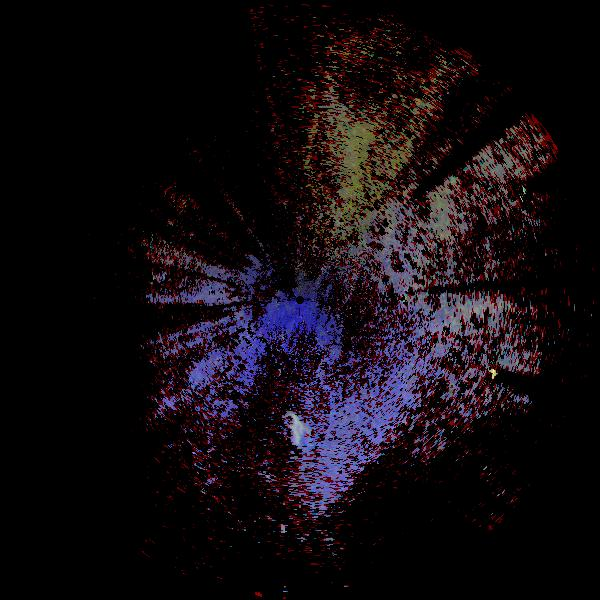roost: (276, 412, 306, 442)
